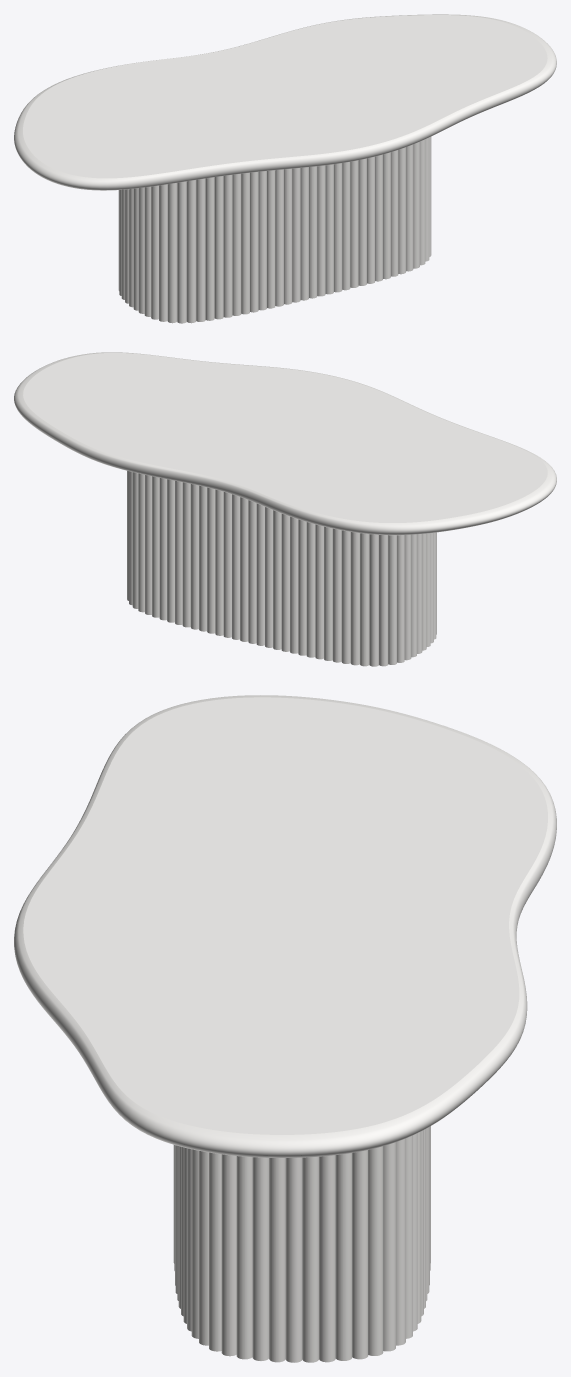
Rendered from purewhite_toplast_round_newtable.glb.
3 renders of one model, top to bottom at view 1: azimuth 30°, elevation 25°; view 2: azimuth 150°, elevation 25°; view 3: azimuth 270°, elevation 25°, orthographic. The views are drawn at different scales.
Visible parts, largest first — view 1: round_toplast, newtable; view 2: round_toplast, newtable; view 3: round_toplast, newtable.
Part boxes in pixels (<box>): round_toplast: <box>14,14,556,190</box>; newtable: <box>118,136,431,323</box>; round_toplast: <box>14,352,556,535</box>; newtable: <box>127,471,436,666</box>; round_toplast: <box>14,695,556,1157</box>; newtable: <box>173,1126,430,1362</box>.
Bounding box in the file's own units: 7.5 × 2.5 × 3.8.
Materials: 2 (2 with a texture image).
